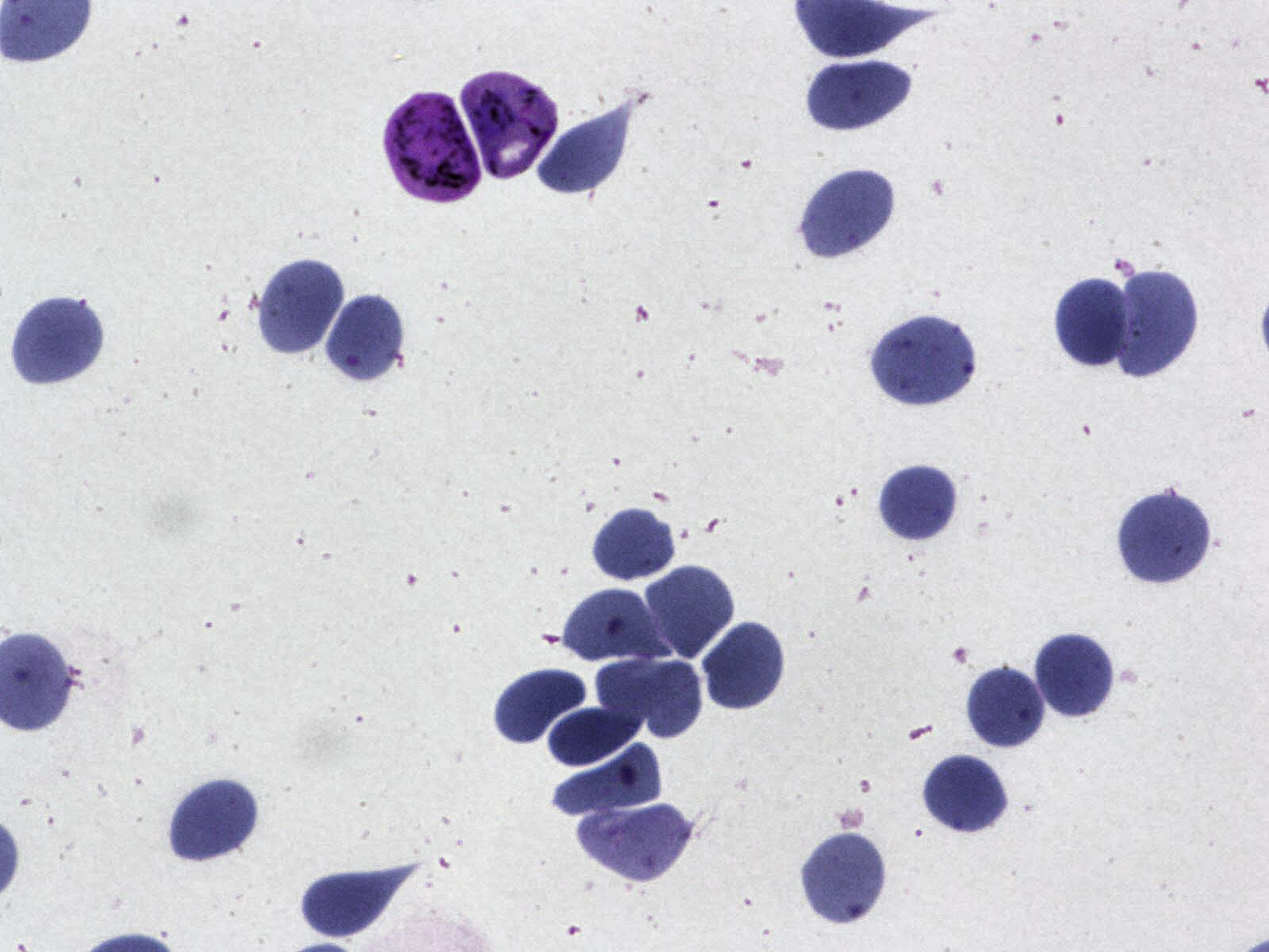Infected: (386, 89, 483, 209), (462, 71, 558, 180)
Uninfected: (868, 311, 977, 409), (577, 797, 694, 885), (1109, 267, 1198, 382), (1116, 487, 1213, 589), (255, 254, 347, 360), (798, 164, 896, 262), (596, 656, 706, 741), (10, 292, 106, 389), (799, 827, 889, 930), (539, 103, 633, 199), (702, 616, 788, 716), (806, 56, 915, 134), (167, 774, 260, 865), (297, 862, 402, 942), (322, 290, 407, 388), (642, 568, 735, 656), (562, 585, 663, 666), (552, 743, 663, 816), (919, 751, 1010, 837), (1031, 628, 1116, 720), (493, 666, 588, 748), (965, 662, 1050, 753), (1053, 274, 1133, 369), (877, 461, 960, 544), (593, 505, 677, 585), (547, 703, 642, 770)
